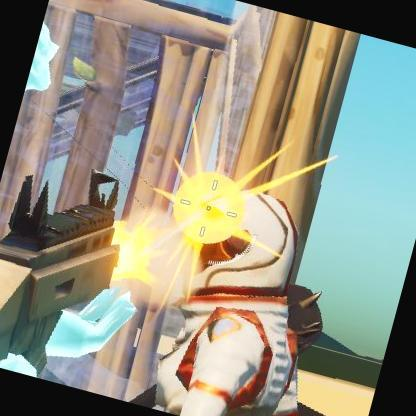person: (137, 188, 340, 416)
